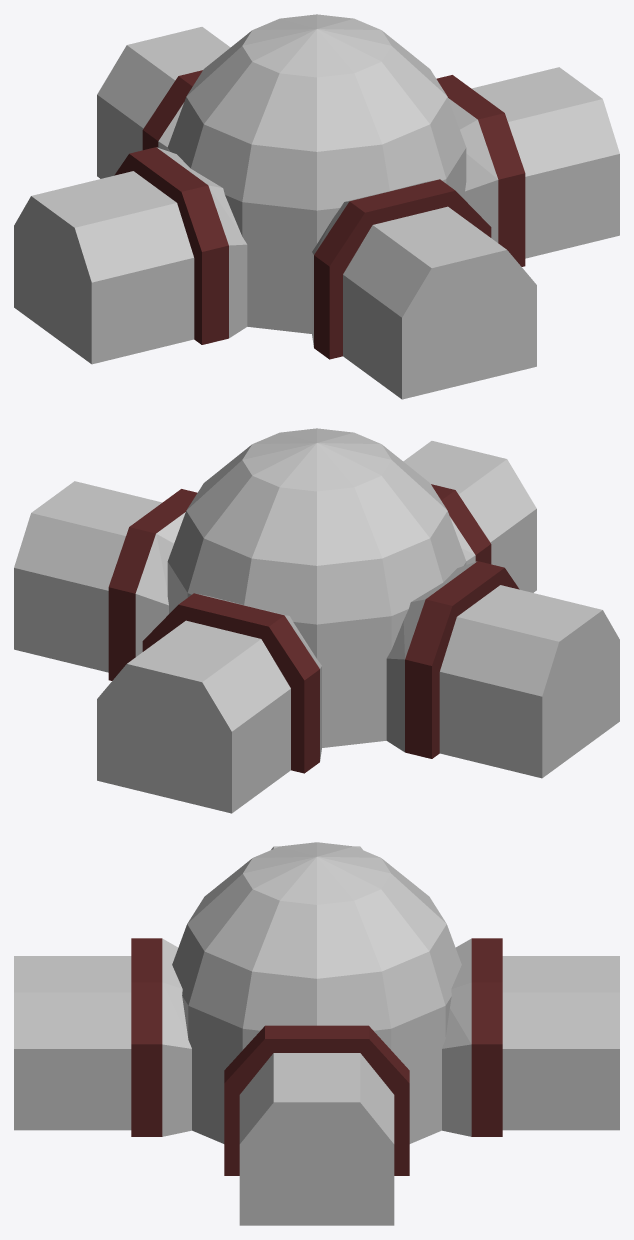
The model's file is vce_valve_deep_on.obj.
3 views of the same model, one above another, from view 1: azimuth 30°, elevation 25°; view 2: azimuth 150°, elevation 25°; view 3: azimuth 270°, elevation 25° (orthographic).
Size of the model in its own units: 0.98 by 0.43 by 0.98.
